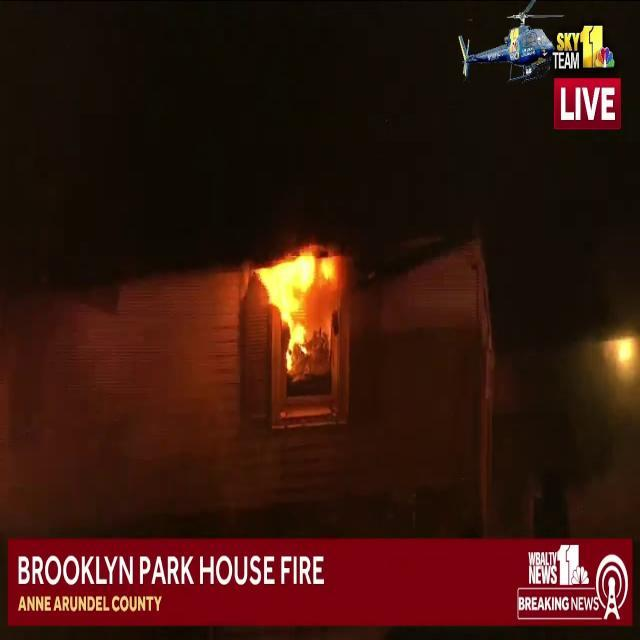Fire: (248, 240, 346, 366)
